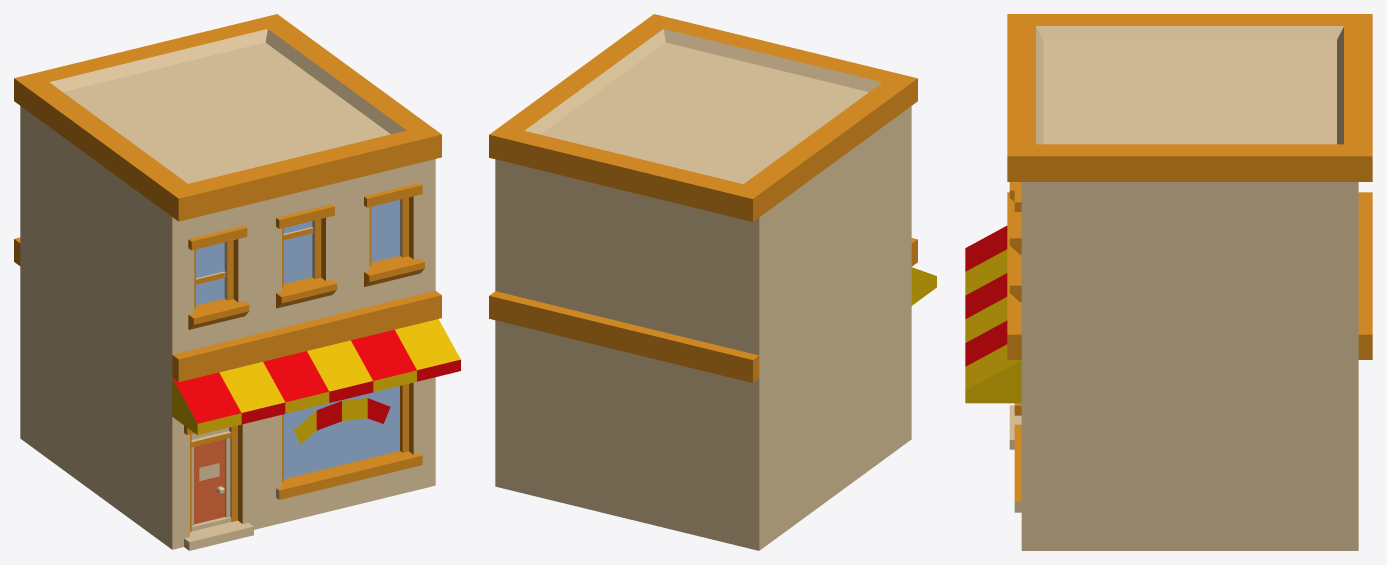
Rendered from nha4.glb.
3 renders of one model, left to right at view 1: azimuth 30°, elevation 25°; view 2: azimuth 150°, elevation 25°; view 3: azimuth 270°, elevation 25°, orthographic. The views are drawn at different scales.
Parts seen in each view (by area): view 1: building_A_withoutBase_Cube.939; view 2: building_A_withoutBase_Cube.939; view 3: building_A_withoutBase_Cube.939.
Part boxes in pixels (x1=…): building_A_withoutBase_Cube.939: x1=14, y1=14, x2=460, y2=550; building_A_withoutBase_Cube.939: x1=489, y1=14, x2=936, y2=550; building_A_withoutBase_Cube.939: x1=965, y1=14, x2=1372, y2=550.
Bounding box in the file's own units: 1.21 × 1.55 × 1.45.
